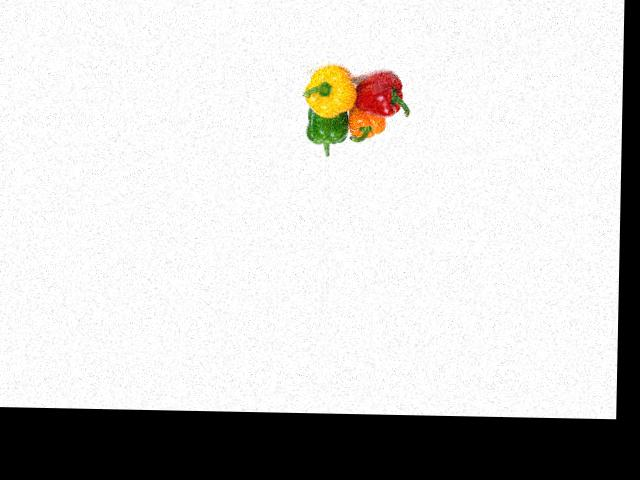bell_pepper: (299, 63, 359, 118)
